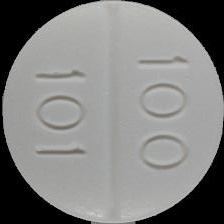49938-101: (0, 0, 224, 224)
